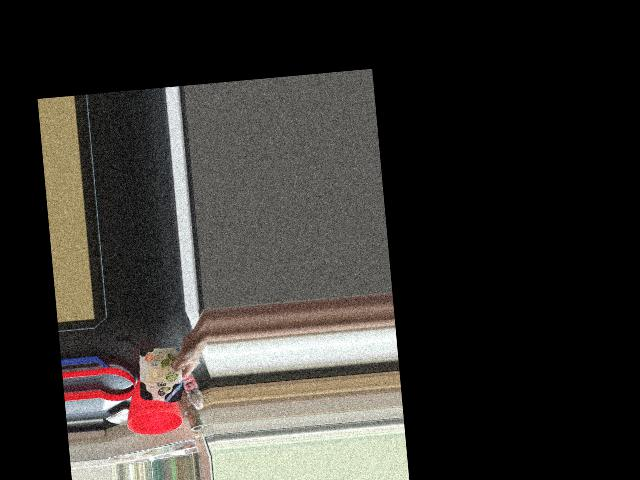cheese: (137, 349, 195, 405)
